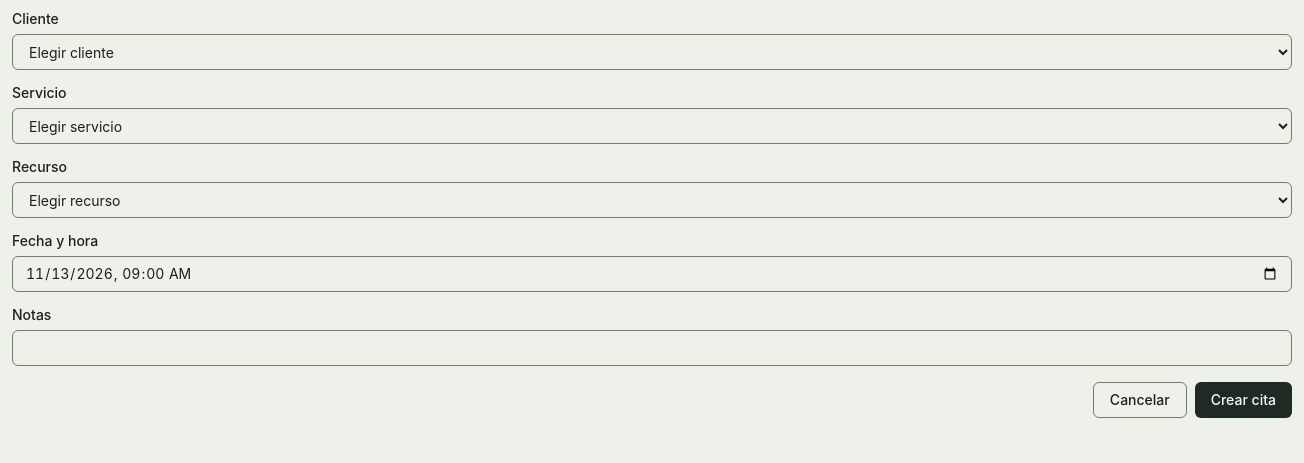
Scenario: AppointmentForm › muestra el error del api junto al campo indicado
The width and height of the screenshot is (1304, 463).
Select "María González" in the dropdown labelled "Cliente". click: (652, 52)
box: [12,34,1292,70]
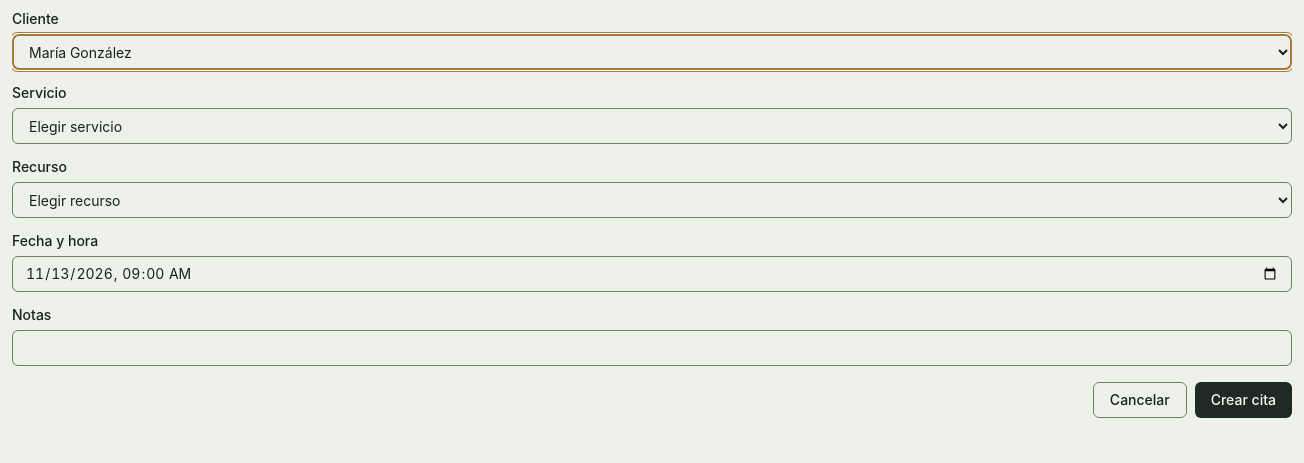
Select "Limpieza facial (ejemplo)" in the dropdown labelled "Servicio". click: (652, 126)
box: [12,108,1292,144]
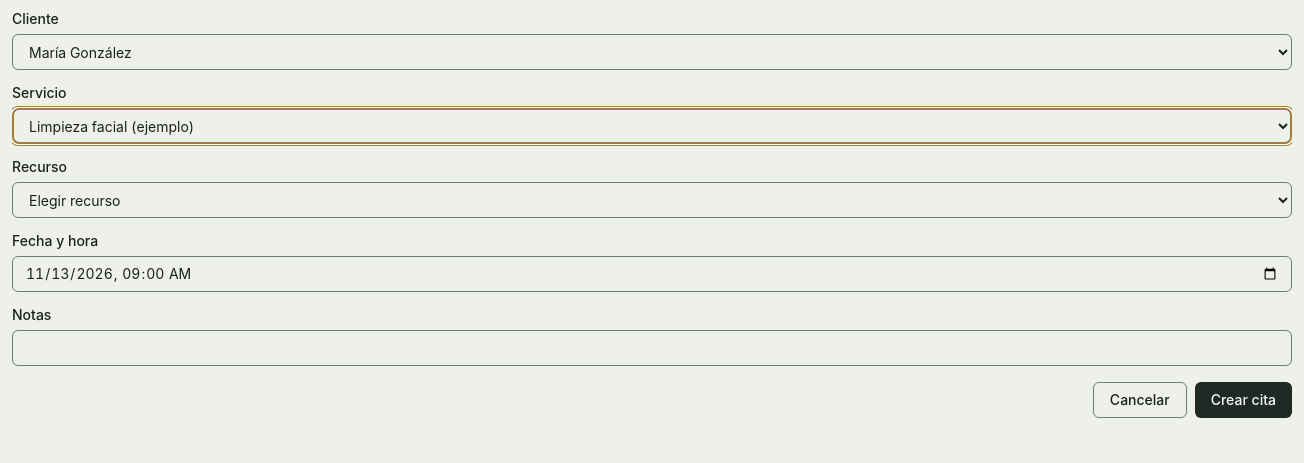
Select "Cabina 2" in the dropdown labelled "Recurso". click: (652, 200)
box: [12,182,1292,218]
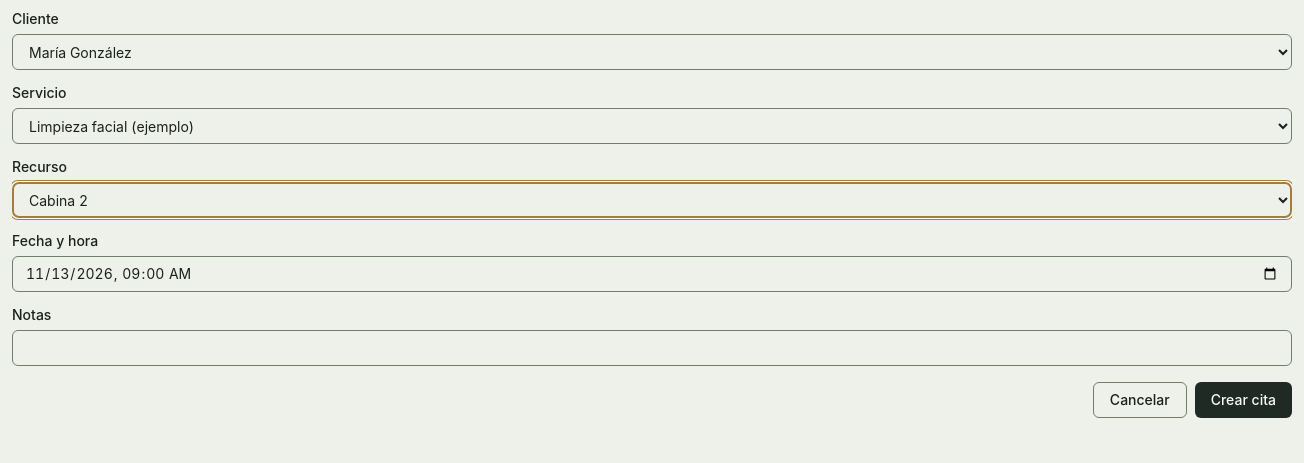
Click the button "Crear cita". click: (1243, 400)
box: [1195,382,1292,418]
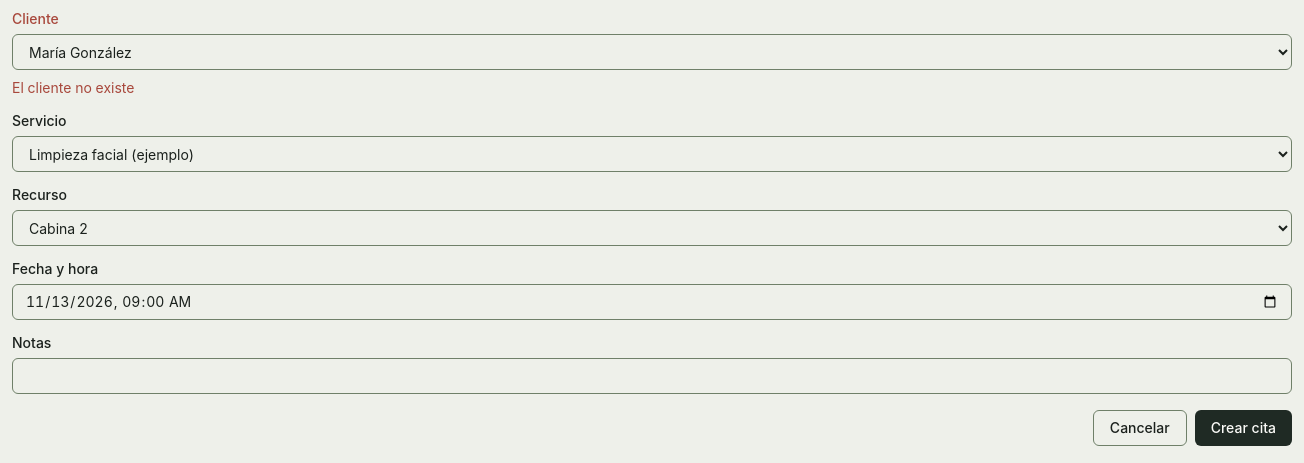
Check: the text "El cliente no existe" is shown, box [12,79,134,96]
